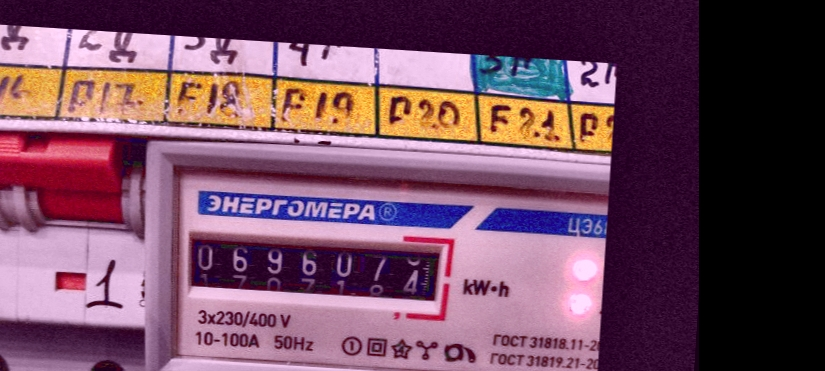0: (333, 248, 354, 279), (194, 242, 214, 271)
4: (401, 268, 419, 296)
6: (298, 248, 319, 278), (229, 244, 250, 273)
7: (369, 252, 388, 283)
9: (264, 247, 283, 276)
screen: (170, 214, 460, 321)
